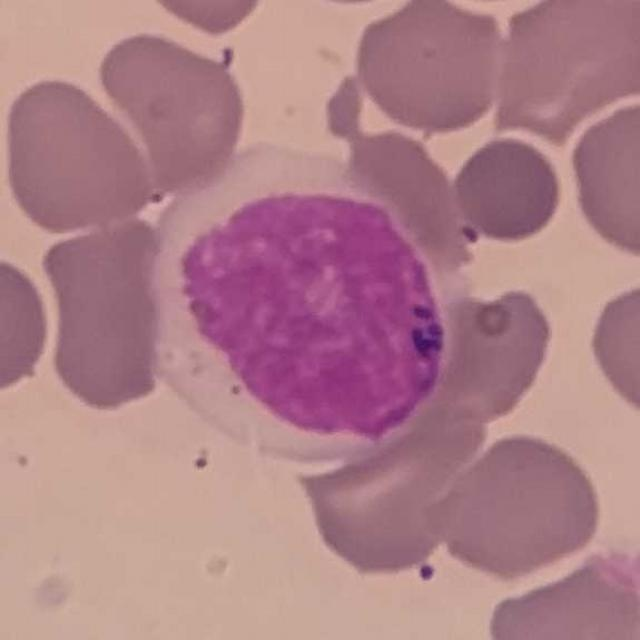Monocyte: (135, 141, 451, 480)
RBC: (283, 397, 486, 581), (422, 427, 609, 581), (91, 25, 252, 198), (36, 215, 172, 416), (1, 71, 157, 237), (349, 1, 506, 136), (486, 0, 640, 136), (428, 283, 558, 427), (482, 547, 640, 640), (448, 132, 568, 246), (564, 94, 640, 264), (583, 274, 640, 425), (0, 249, 56, 400), (135, 0, 275, 37)
